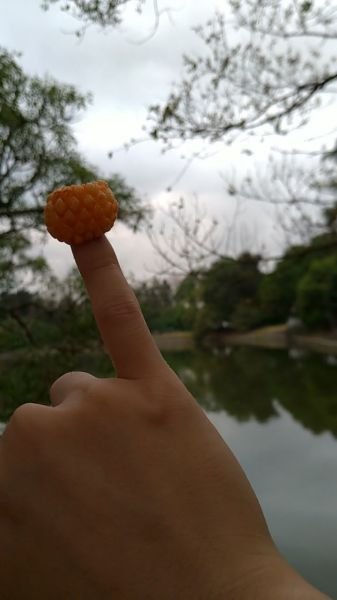eggs: (45, 181, 120, 244)
